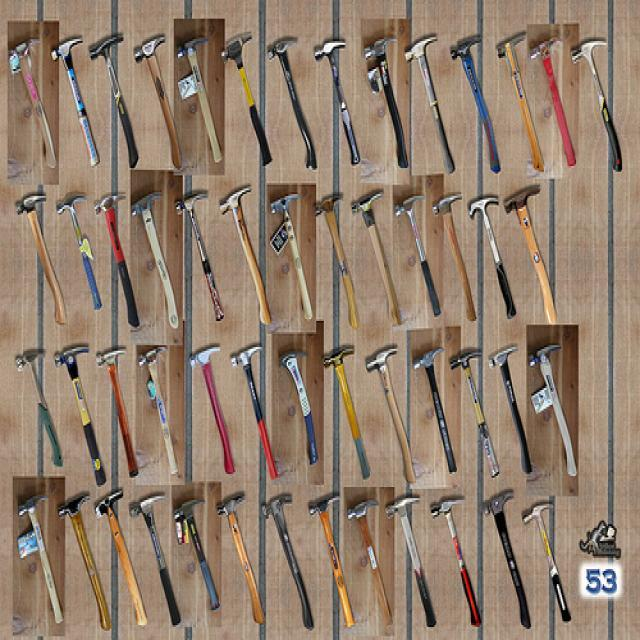hammer: (444, 21, 512, 184), (394, 29, 462, 183), (353, 22, 420, 176), (216, 25, 286, 172), (304, 32, 375, 175), (220, 329, 286, 481), (565, 31, 631, 178), (500, 185, 566, 332), (490, 17, 550, 175), (128, 22, 188, 174), (81, 30, 148, 166), (50, 336, 110, 484), (3, 343, 71, 473), (480, 480, 535, 638), (261, 32, 323, 172), (129, 337, 188, 484), (0, 36, 60, 179), (92, 482, 152, 622), (184, 338, 243, 480), (527, 32, 586, 172), (171, 182, 230, 322), (172, 36, 232, 171), (525, 337, 581, 480), (128, 184, 182, 332), (212, 182, 270, 318), (320, 340, 374, 486), (451, 334, 504, 482), (516, 490, 572, 630), (89, 189, 144, 331), (262, 338, 323, 466), (364, 342, 418, 486), (462, 190, 520, 324), (166, 478, 224, 612), (49, 29, 101, 178), (407, 338, 460, 482), (14, 184, 66, 330), (256, 484, 310, 624), (430, 492, 484, 630), (210, 490, 264, 628), (487, 331, 536, 482), (350, 188, 402, 326), (54, 485, 104, 628), (310, 184, 358, 330), (384, 490, 434, 630), (94, 342, 144, 480), (343, 491, 395, 622), (128, 485, 180, 616), (390, 190, 442, 320), (55, 189, 106, 319), (15, 489, 63, 627), (428, 189, 478, 320), (307, 484, 352, 628), (269, 182, 315, 320)
